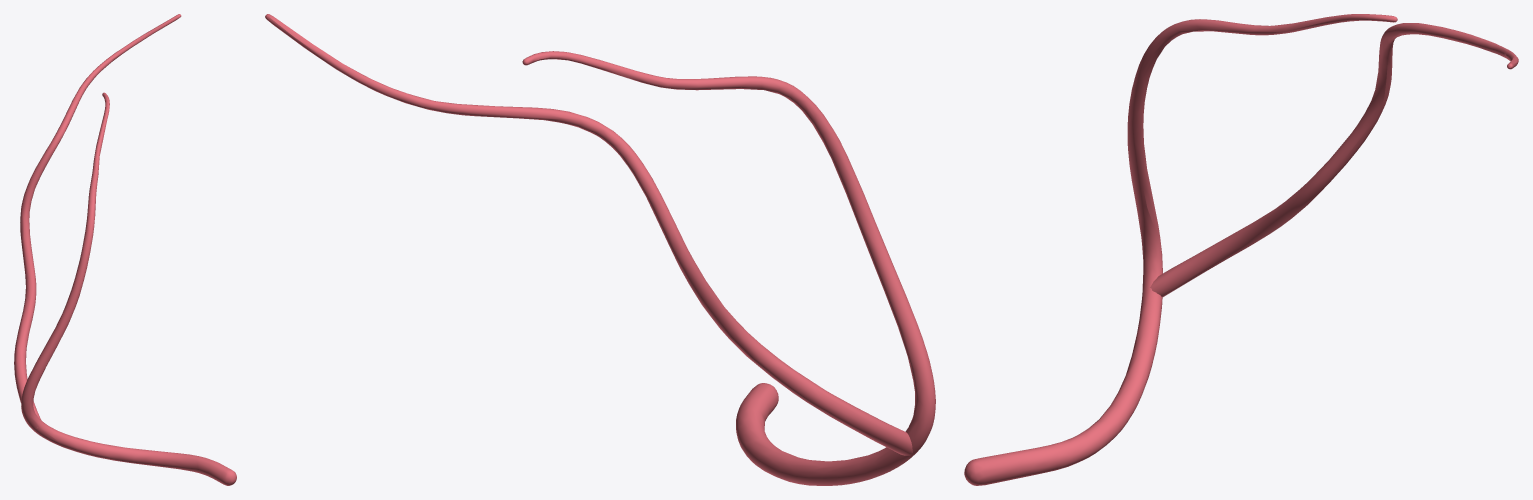
File: fma50483_cx97.glb
3 renders of one model, left to right at view 1: azimuth 30°, elevation 25°; view 2: azimuth 150°, elevation 25°; view 3: azimuth 270°, elevation 25°, orthographic. The views are drawn at different scales.
Visible parts, largest first — view 1: FMA50483_CX97; view 2: FMA50483_CX97; view 3: FMA50483_CX97.
Part boxes in pixels (box(x1,y1,x2,y2)): FMA50483_CX97: box(14, 14, 236, 485); FMA50483_CX97: box(265, 14, 935, 485); FMA50483_CX97: box(964, 14, 1518, 485).
Size of the model in its own units: 0.0357 by 0.0404 by 0.0396.
